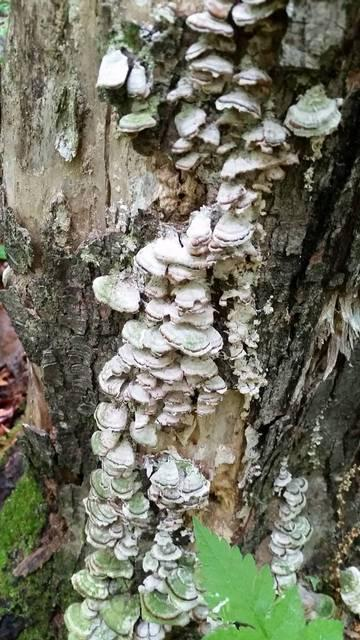Non-edible Mushroom: (63, 0, 344, 638), (282, 82, 343, 138)
